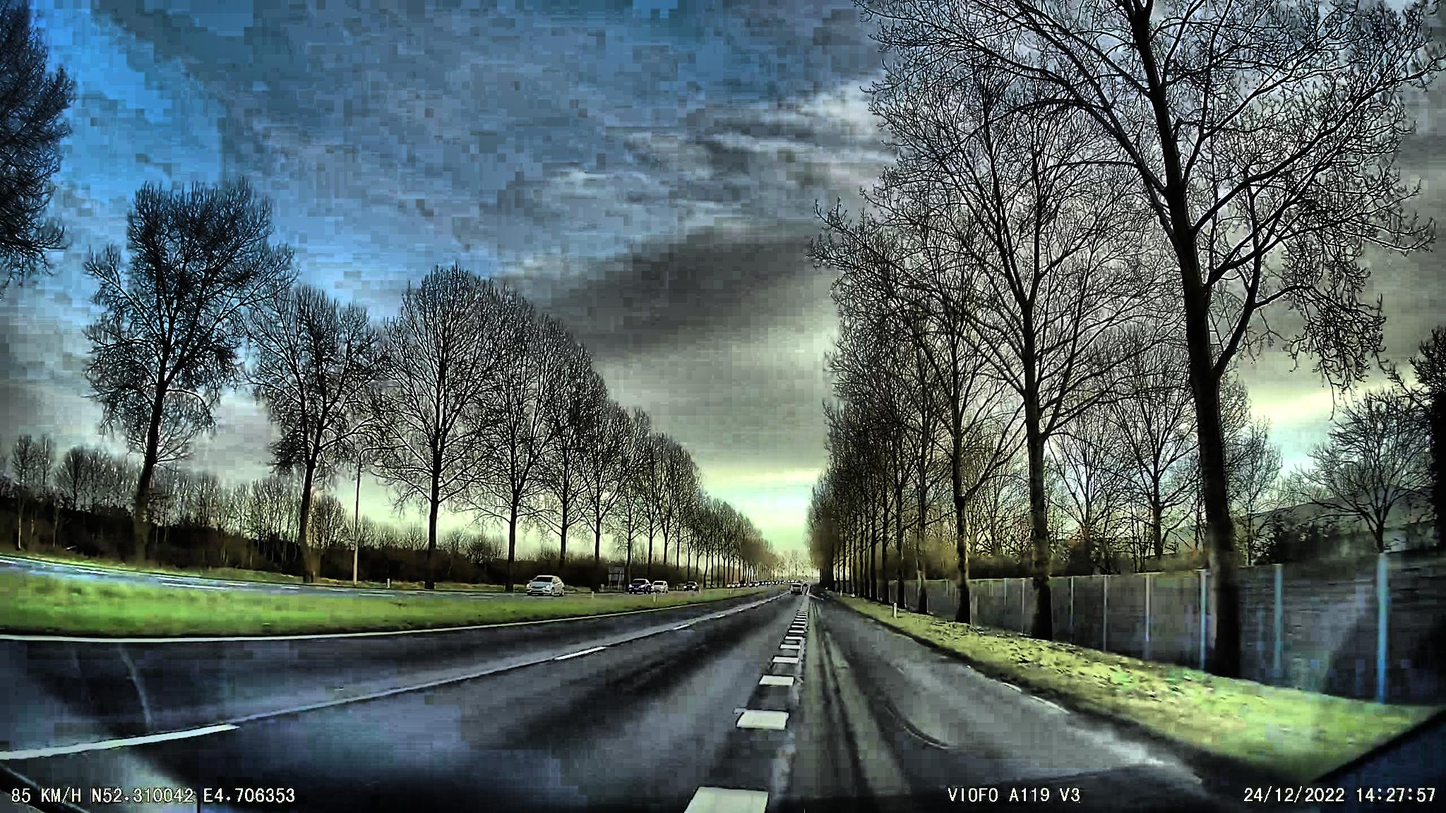Roads: (0, 588, 1262, 813)
